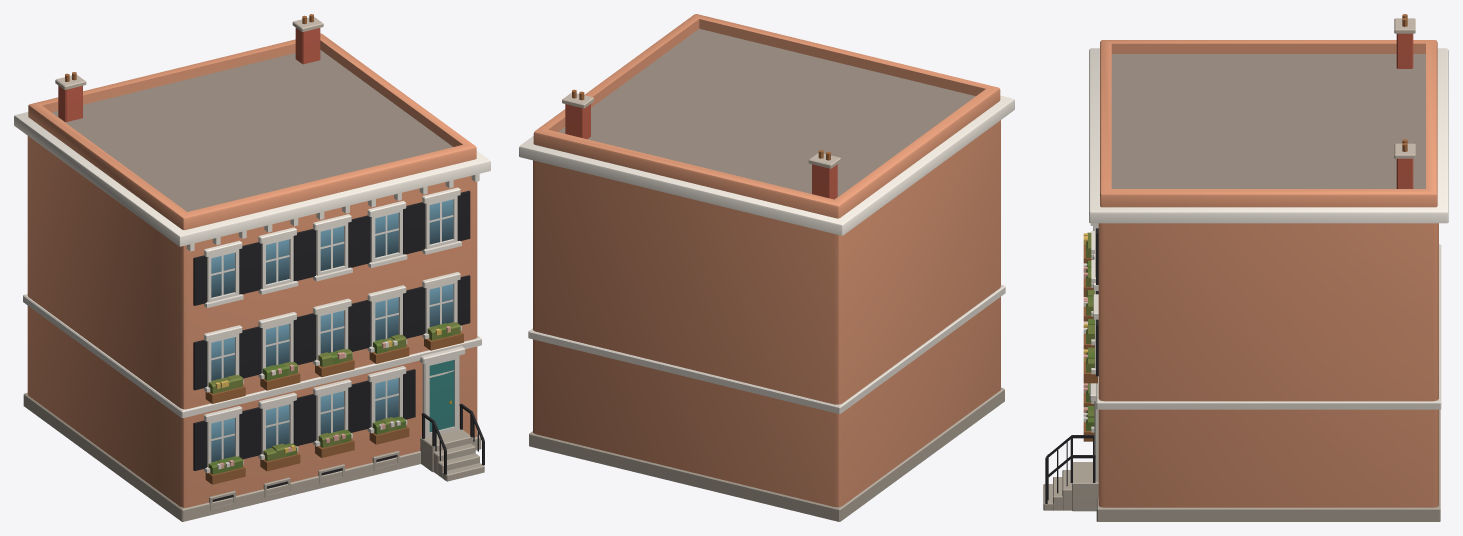
The model's file is tremont_e2.glb.
3 views of the same model, side by side, from view 1: azimuth 30°, elevation 25°; view 2: azimuth 150°, elevation 25°; view 3: azimuth 270°, elevation 25° (orthographic). The views are drawn at different scales.
Visible parts, largest first — view 1: tremont_e2; view 2: tremont_e2; view 3: tremont_e2.
Boxes of the visible parts, <box> form: tremont_e2: <box>14,14,490,521</box>; tremont_e2: <box>519,14,1014,521</box>; tremont_e2: <box>1043,14,1448,521</box>.
Bounding box in the file's own units: 13.14 × 13.54 × 13.68.
1 material, 1 textured.
